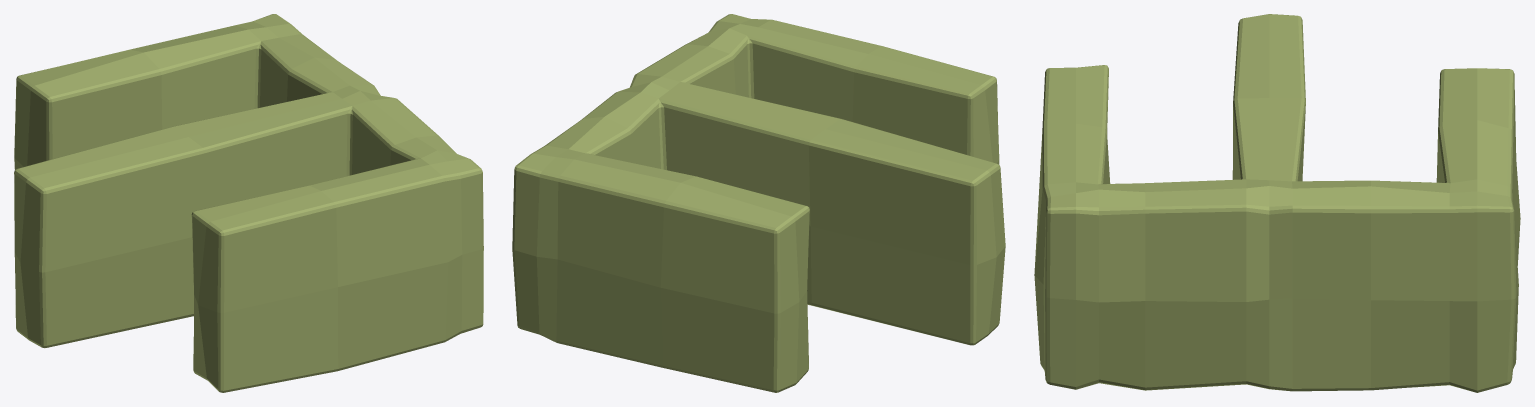
The model's file is Wall piece 2.fbx.
The picture shows the model from 3 angles, left to right: view 1: azimuth 30°, elevation 25°; view 2: azimuth 150°, elevation 25°; view 3: azimuth 270°, elevation 25°; orthographic projection. The views are drawn at different scales.
Parts seen in each view (by area): view 1: wall piece 2O; view 2: wall piece 2O; view 3: wall piece 2O.
Part boxes in pixels (x1,y1,x2,y2): wall piece 2O: (14, 14, 483, 392); wall piece 2O: (512, 14, 1005, 392); wall piece 2O: (1034, 14, 1520, 392).
Size of the model in its own units: 1031 by 1052 by 470.
